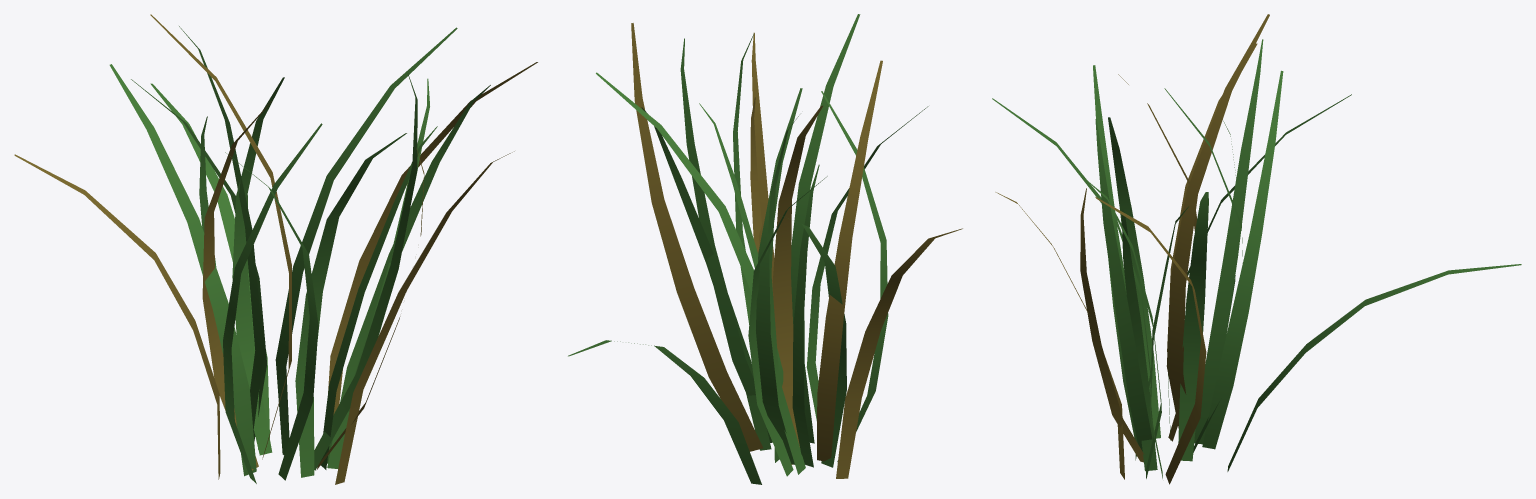
File: Leaves_004.fbx
3 renders of one model, left to right at view 1: azimuth 30°, elevation 25°; view 2: azimuth 150°, elevation 25°; view 3: azimuth 270°, elevation 25°, orthographic. The views are drawn at different scales.
Parts seen in each view (by area): view 1: Leaves.004; view 2: Leaves.004; view 3: Leaves.004.
Part boxes in pixels (box(x1,y1,x2,y2)): Leaves.004: box(14, 14, 537, 484); Leaves.004: box(568, 14, 962, 484); Leaves.004: box(992, 14, 1521, 484).
Bounding box in the file's own units: 30.42 × 29.26 × 33.88.
